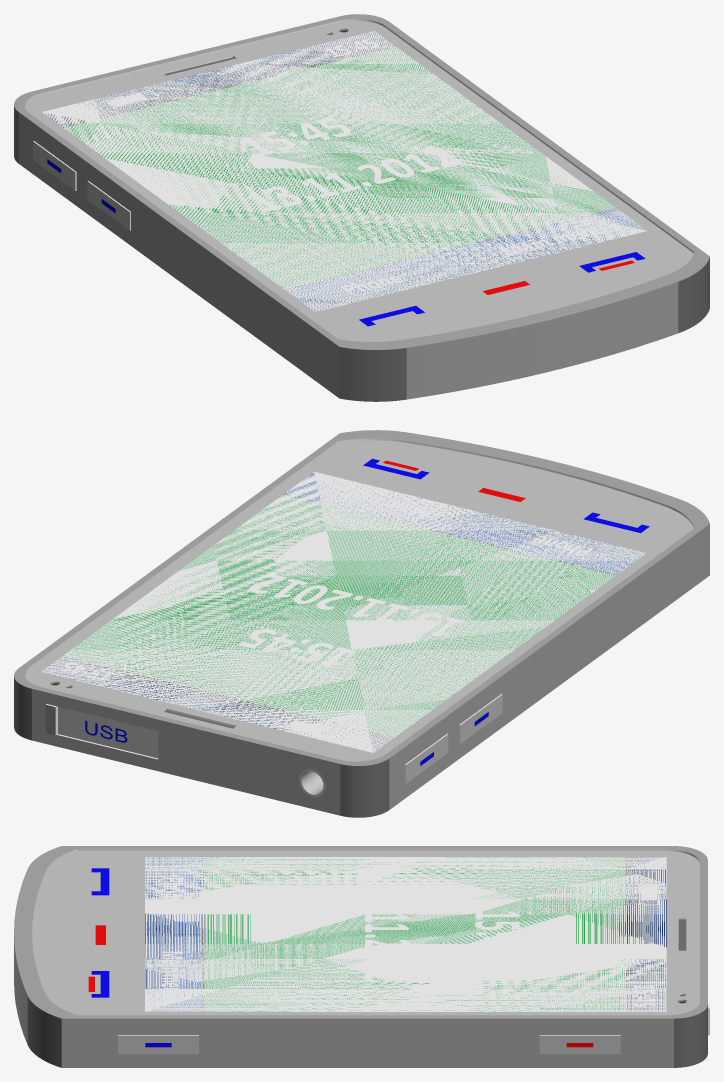
The picture shows the model from 3 angles, top to bottom: view 1: azimuth 30°, elevation 25°; view 2: azimuth 150°, elevation 25°; view 3: azimuth 270°, elevation 25°; orthographic projection. The views are drawn at different scales.
Parts seen in each view (by area): view 1: mesh14-geometry-1, mesh14-geometry-7, mesh14-geometry-0, mesh14-geometry-4, mesh14-geometry-2, mesh14-geometry-6; view 2: mesh14-geometry-1, mesh14-geometry-7, mesh14-geometry-0, mesh14-geometry-4, mesh14-geometry-2, mesh14-geometry-6; view 3: mesh14-geometry-1, mesh14-geometry-0, mesh14-geometry-4, mesh14-geometry-7, mesh14-geometry-2, mesh14-geometry-6, mesh14-geometry-5.
Boxes of the visible parts, bbox=[...] form: mesh14-geometry-1: bbox=[24, 18, 694, 311]; mesh14-geometry-7: bbox=[46, 32, 645, 311]; mesh14-geometry-0: bbox=[14, 14, 709, 399]; mesh14-geometry-4: bbox=[24, 20, 693, 341]; mesh14-geometry-2: bbox=[14, 29, 709, 401]; mesh14-geometry-6: bbox=[47, 159, 645, 326]; mesh14-geometry-1: bbox=[24, 438, 694, 783]; mesh14-geometry-7: bbox=[44, 473, 645, 750]; mesh14-geometry-0: bbox=[14, 430, 709, 815]; mesh14-geometry-4: bbox=[25, 440, 693, 797]; mesh14-geometry-2: bbox=[14, 677, 389, 817]; mesh14-geometry-6: bbox=[363, 458, 649, 765]; mesh14-geometry-1: bbox=[32, 849, 709, 1035]; mesh14-geometry-0: bbox=[14, 846, 707, 1067]; mesh14-geometry-4: bbox=[32, 851, 699, 1053]; mesh14-geometry-7: bbox=[145, 857, 666, 1011]; mesh14-geometry-2: bbox=[27, 919, 707, 1067]; mesh14-geometry-6: bbox=[91, 868, 171, 1047]; mesh14-geometry-5: bbox=[88, 925, 593, 1047].
Size of the model in its own units: 0.5073 by 0.0673 by 0.8591.
